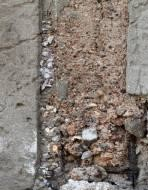Spalling: (36, 1, 148, 190)
